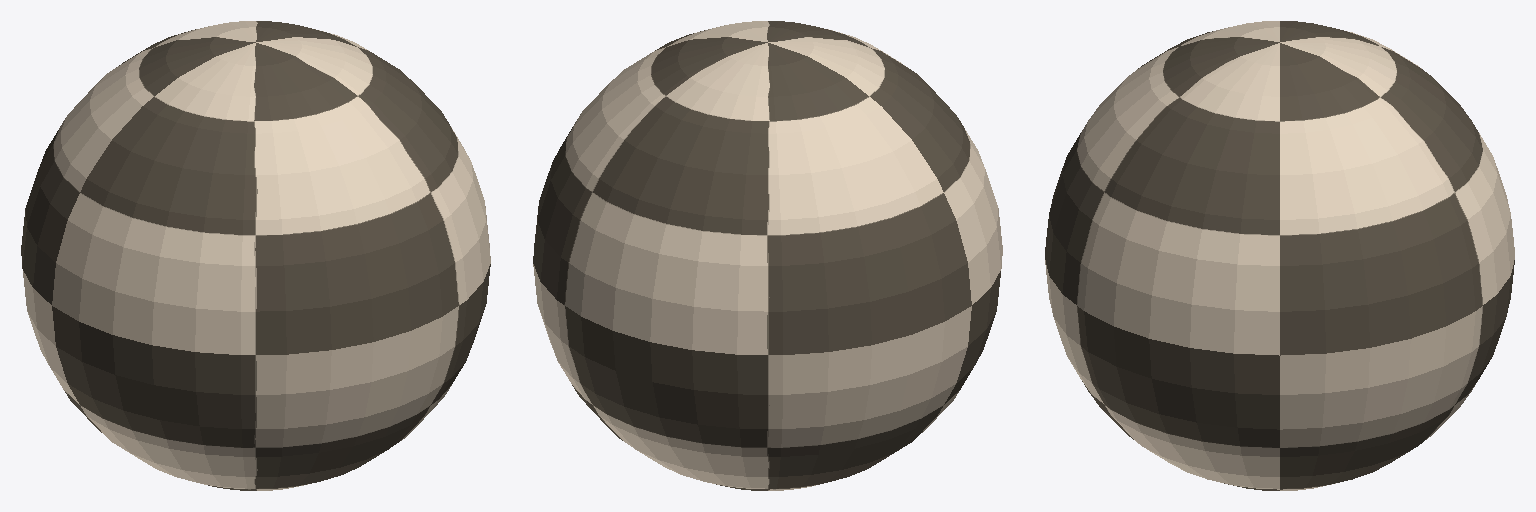
3 renders of one model, left to right at view 1: azimuth 30°, elevation 25°; view 2: azimuth 150°, elevation 25°; view 3: azimuth 270°, elevation 25°, orthographic.
Parts seen in each view (by area): view 1: Sphere; view 2: Sphere; view 3: Sphere.
Part boxes in pixels (x1,y1,x2,y2): Sphere: (21,21,490,490); Sphere: (533,21,1002,490); Sphere: (1045,21,1514,490).
Size of the model in its own units: 2 by 2 by 2.
1 materials, 1 textured.